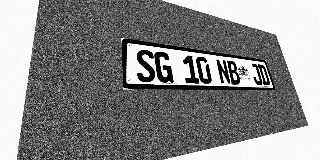0: (195, 56, 213, 84)
1: (181, 54, 200, 84)
B: (226, 60, 241, 85)
D: (257, 64, 271, 85)
G: (154, 51, 174, 83)
J: (249, 63, 263, 85)
N: (215, 59, 231, 84)
S: (135, 49, 156, 82)
